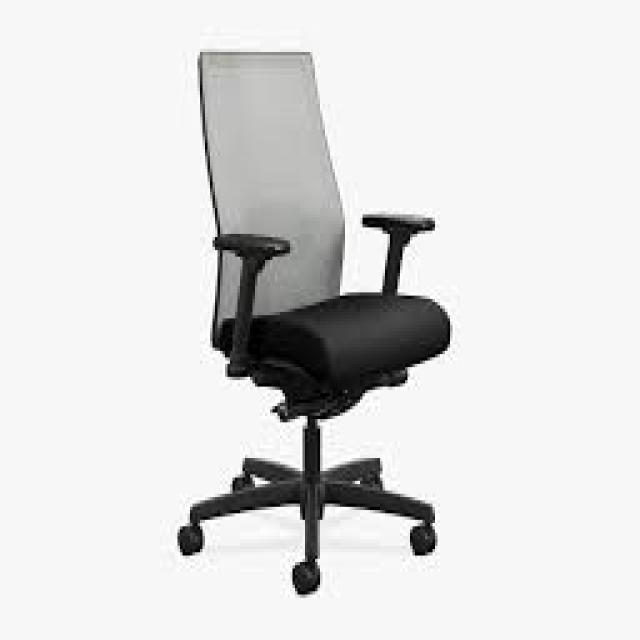chair: (100, 2, 460, 616)
